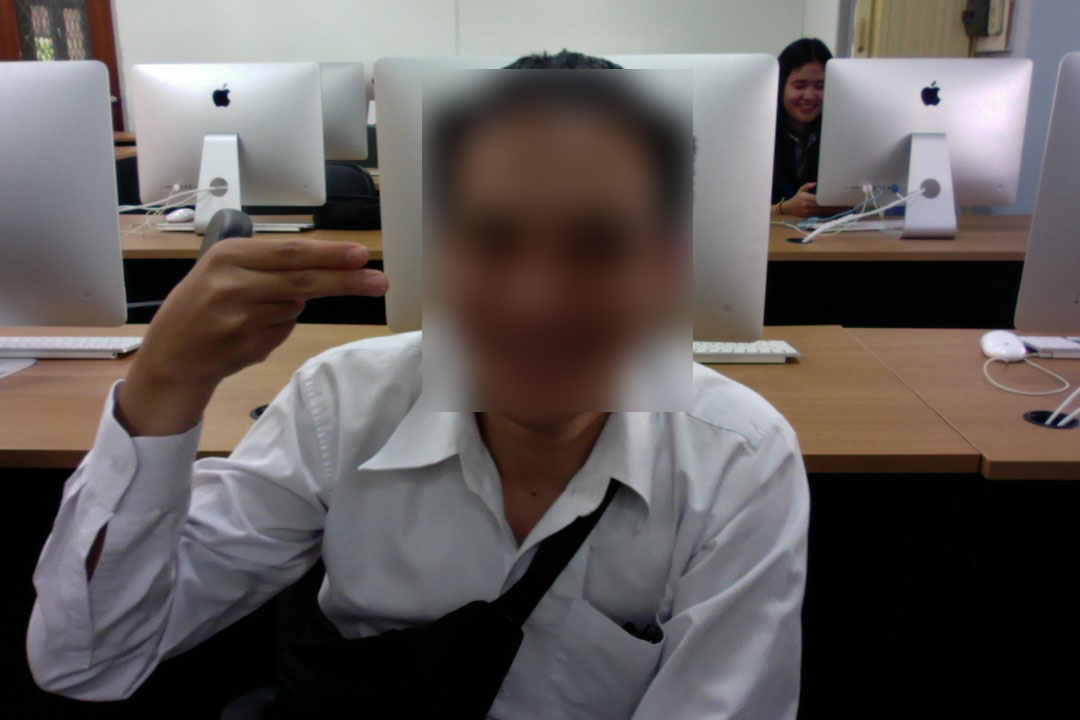hor: (123, 232, 401, 388)
